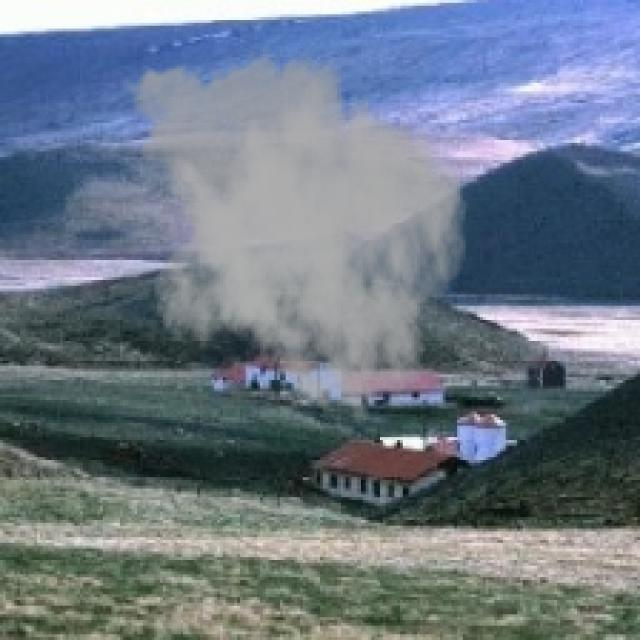Smoke: (117, 43, 469, 426)
